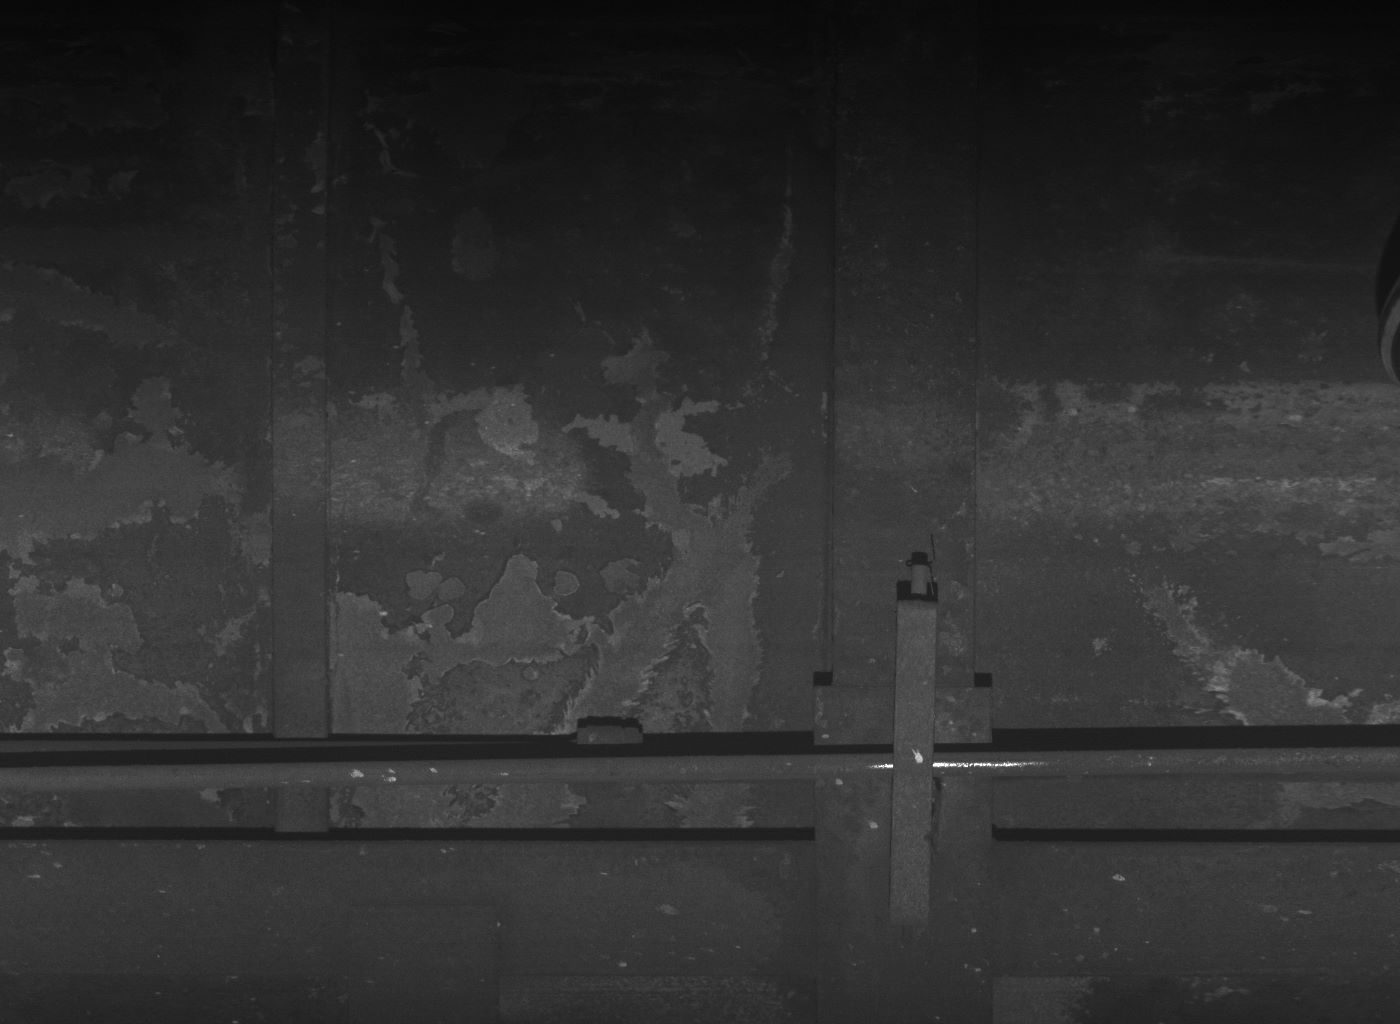normal: (890, 562, 939, 928)
